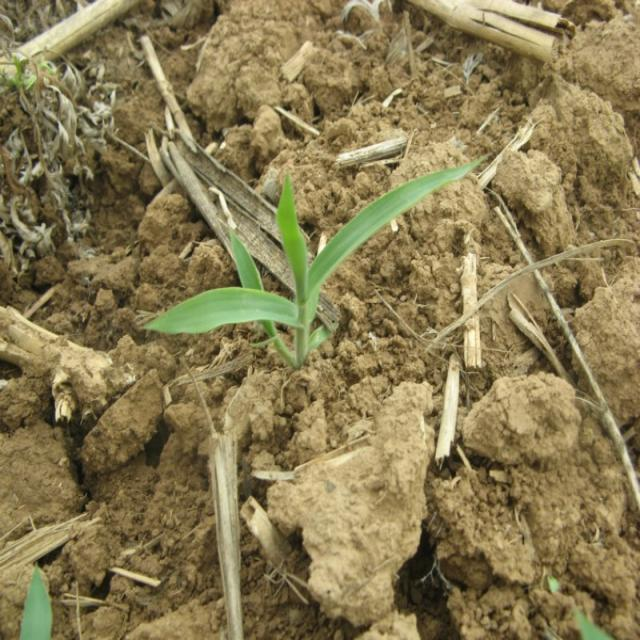bg: (142, 159, 475, 354)
